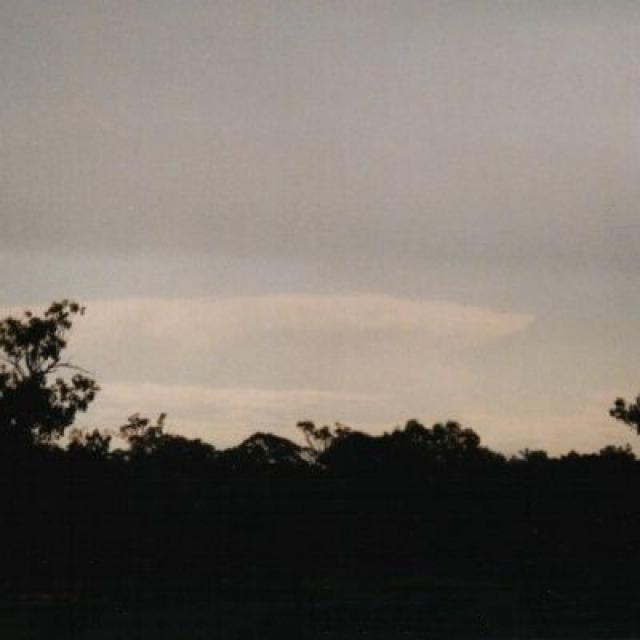nimbostratus: (0, 0, 640, 299)
